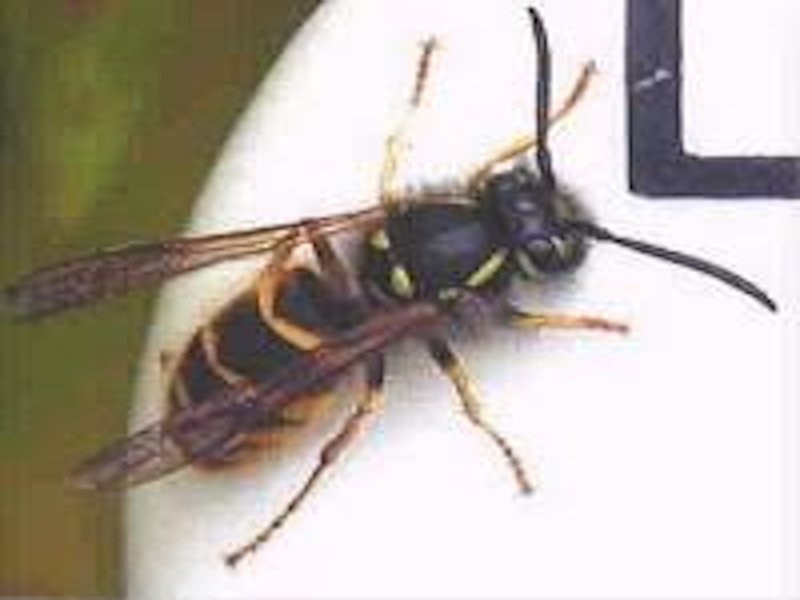chax: (17, 17, 729, 575)
